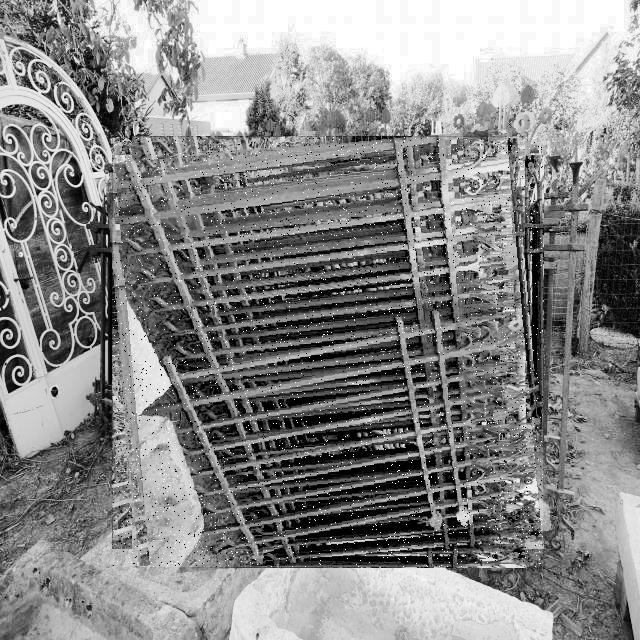fences: (113, 137, 543, 567)
